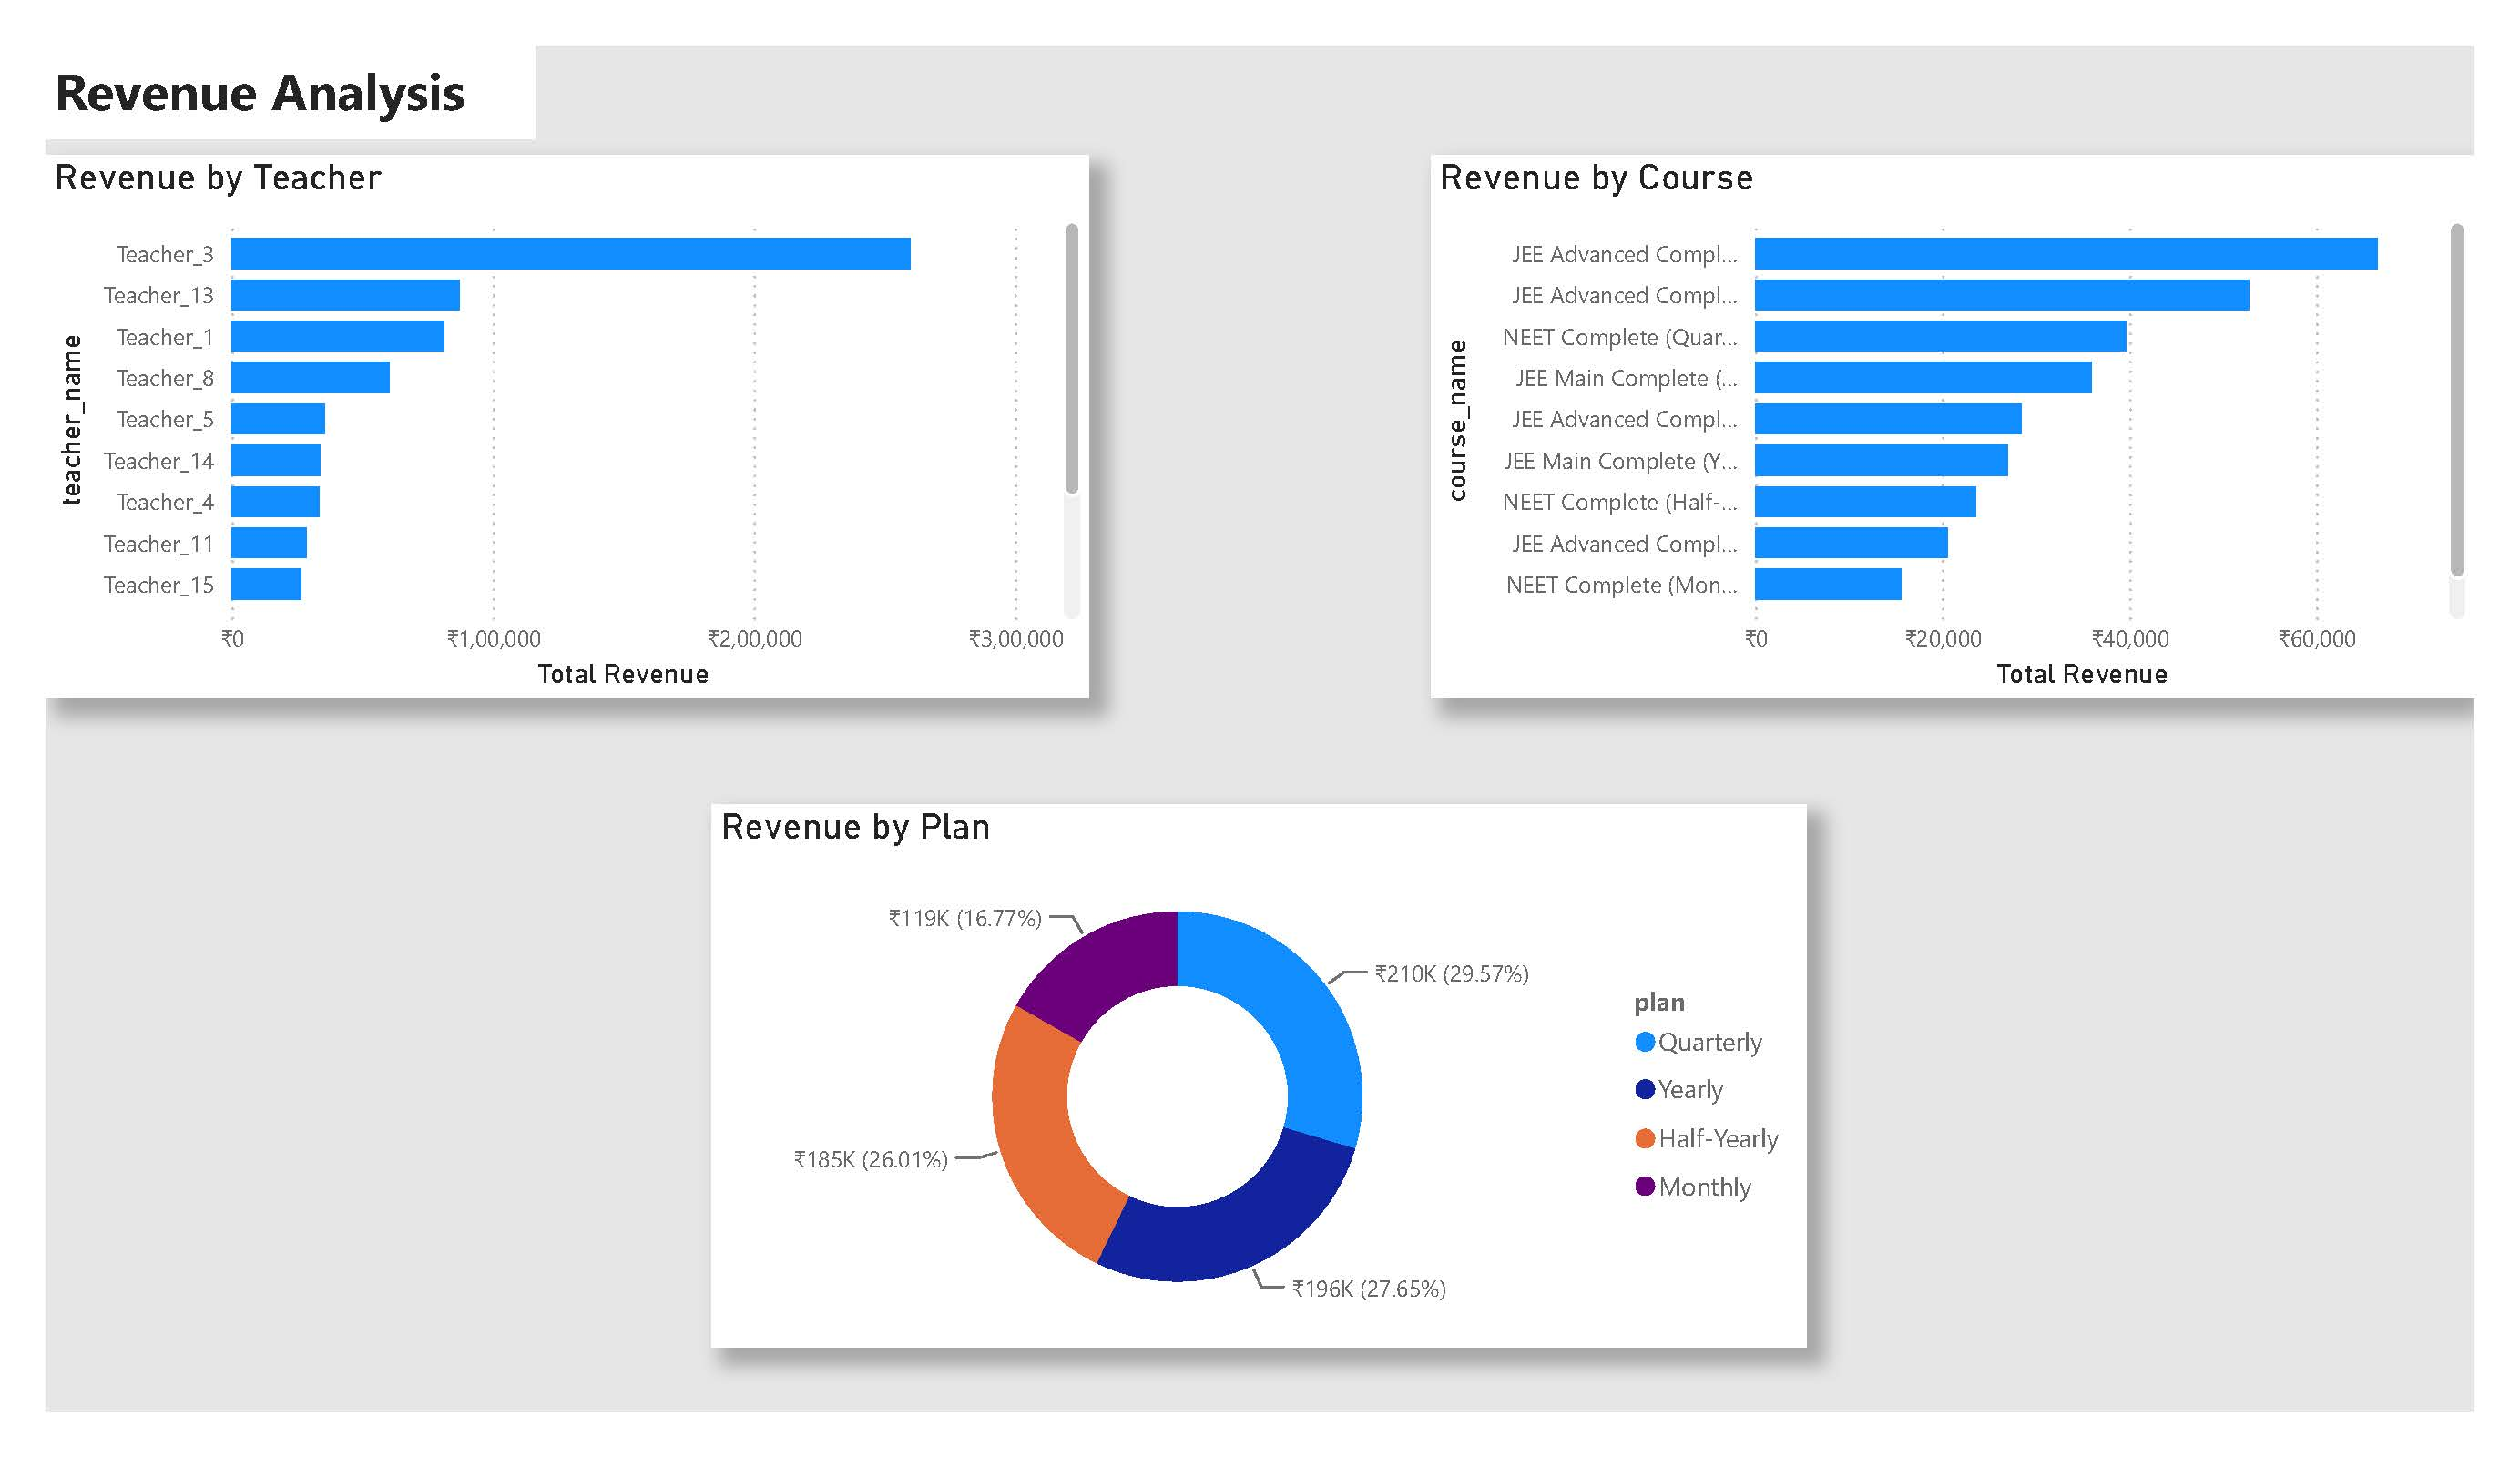

This screenshot's page, from the dashboard's own definition file:
{"tool":"powerbi","page":{"name":"Revenue Analysis","canvas":[1280,720],"ordinal":1},"visuals":[{"type":"clusteredBarChart","title":"Revenue by Teacher","fields":{"Category":["edtech teachers.teacher_name"],"Y":["edtech payments.Total Revenue"]},"box":[0,58.4,550,285.7],"z":0},{"type":"donutChart","title":"Revenue by Plan","fields":{"Category":["edtech courses.plan"],"Y":["edtech payments.Total Revenue"]},"box":[351.1,399.8,576.8,286],"z":1000},{"type":"clusteredBarChart","title":"Revenue by Course","fields":{"Category":["edtech courses.course_name"],"Y":["edtech payments.Total Revenue"]},"box":[730.5,58.4,549.5,286],"z":2000},{"type":"textbox","box":[0,0,257.8,48.6],"z":3000}]}

Visuals, with their boxes on the page's 1280x720 design canvas (x1, y1, x2, y2). These are canvas units, not pixel positions in the 2520x1457 screenshot, which may show the page scaled, cropped or inside an application window:
"Revenue by Teacher" clusteredBarChart: [left=0, top=58, right=550, bottom=344]
"Revenue by Plan" donutChart: [left=351, top=400, right=928, bottom=686]
"Revenue by Course" clusteredBarChart: [left=730, top=58, right=1280, bottom=344]
textbox: [left=0, top=0, right=258, bottom=49]
